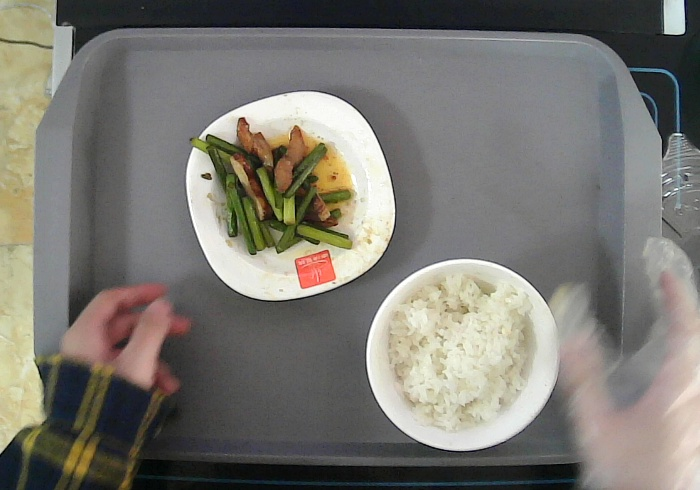SHKJ-Bai_Se_Si_Fang_Cai_Die: (183, 87, 398, 302)
SHKJ-Fan_Wan: (363, 256, 562, 452)
